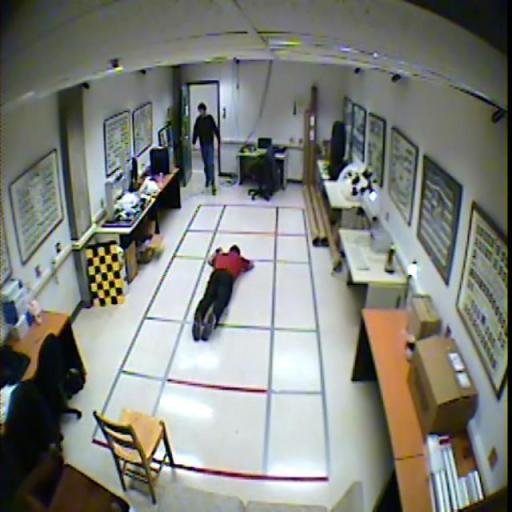Fall: (192, 244, 254, 343)
